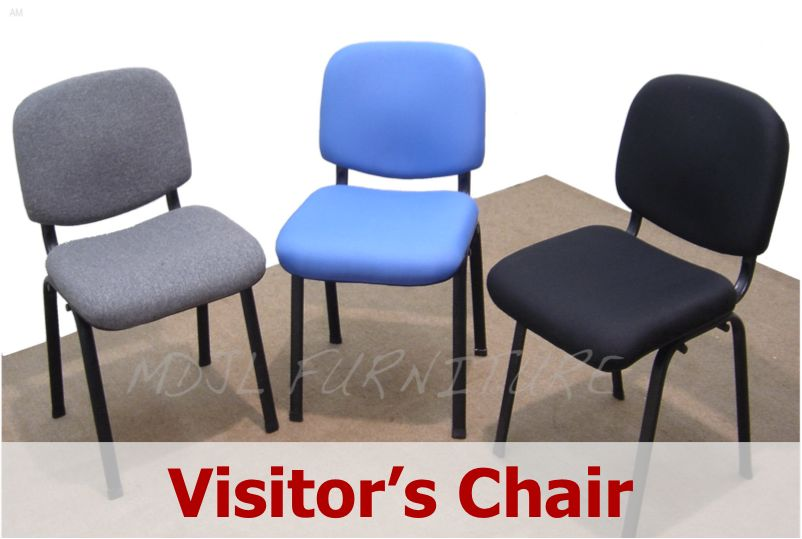chairs: (480, 58, 789, 445), (11, 66, 283, 441), (270, 31, 509, 441)
